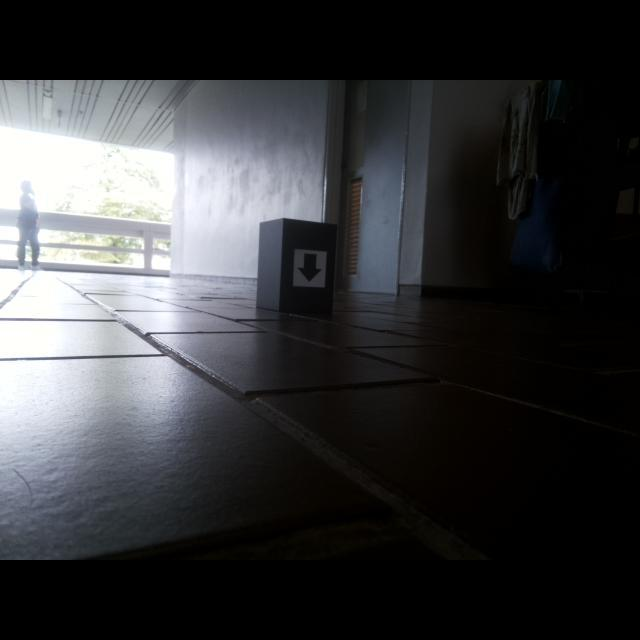DOWN: (296, 253, 323, 283)
